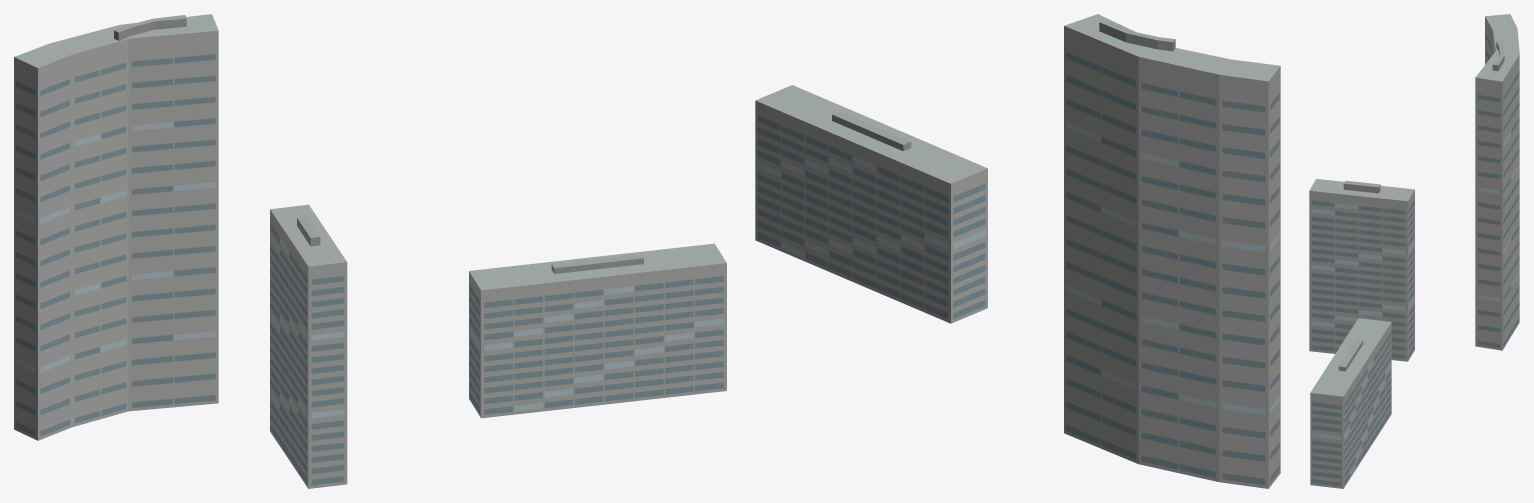
File: apt-a10023143.glb
The picture shows the model from 3 angles, left to right: view 1: azimuth 30°, elevation 25°; view 2: azimuth 150°, elevation 25°; view 3: azimuth 270°, elevation 25°; orthographic projection. The views are drawn at different scales.
Parts seen in each view (by area): view 1: apt-a10023143; view 2: apt-a10023143; view 3: apt-a10023143.
Part boxes in pixels (bbox=[...]): apt-a10023143: bbox=[14, 14, 726, 488]; apt-a10023143: bbox=[755, 14, 1280, 488]; apt-a10023143: bbox=[1309, 14, 1519, 488].
Size of the model in its own units: 175 by 109 by 75.66.
